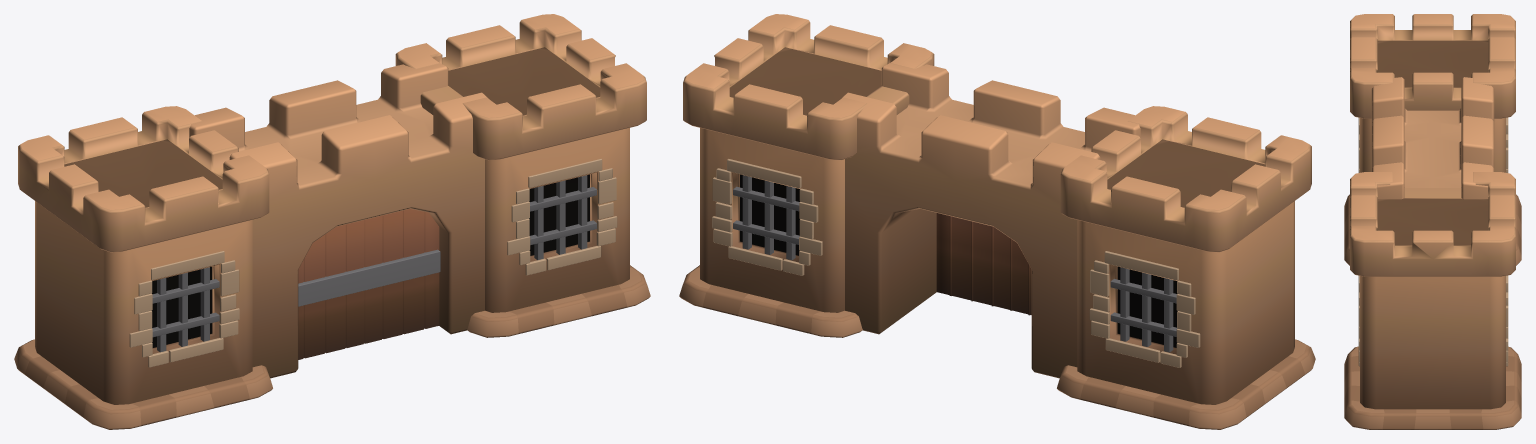
Rendered from Entrance_2.fbx.
3 renders of one model, left to right at view 1: azimuth 30°, elevation 25°; view 2: azimuth 150°, elevation 25°; view 3: azimuth 270°, elevation 25°, orthographic. The views are drawn at different scales.
Parts seen in each view (by area): view 1: Entrance_2, EntranceMainDoor_1; view 2: Entrance_2, EntranceMainDoor_1; view 3: Entrance_2.
Part boxes in pixels (x1,y1,x2,y2): Entrance_2: (14,14,650,429); EntranceMainDoor_1: (298,209,440,359); Entrance_2: (679,14,1315,429); EntranceMainDoor_1: (936,213,1031,315); Entrance_2: (1344,14,1521,429).
Bounding box in the file's own units: 871 × 327 × 281.
